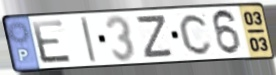3: (105, 12, 138, 64)
6: (211, 7, 245, 58)
C: (178, 12, 215, 57)
E: (29, 18, 74, 65)
I: (79, 16, 99, 65)
Z: (136, 13, 175, 60)
